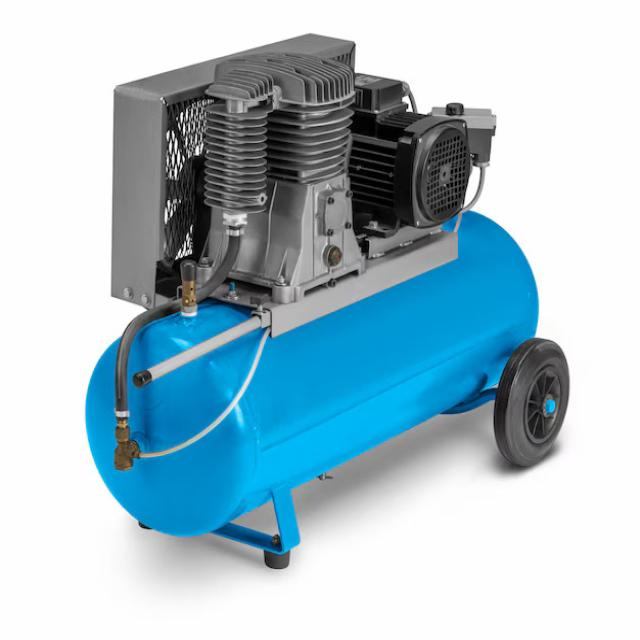compressor: (84, 20, 595, 568)
